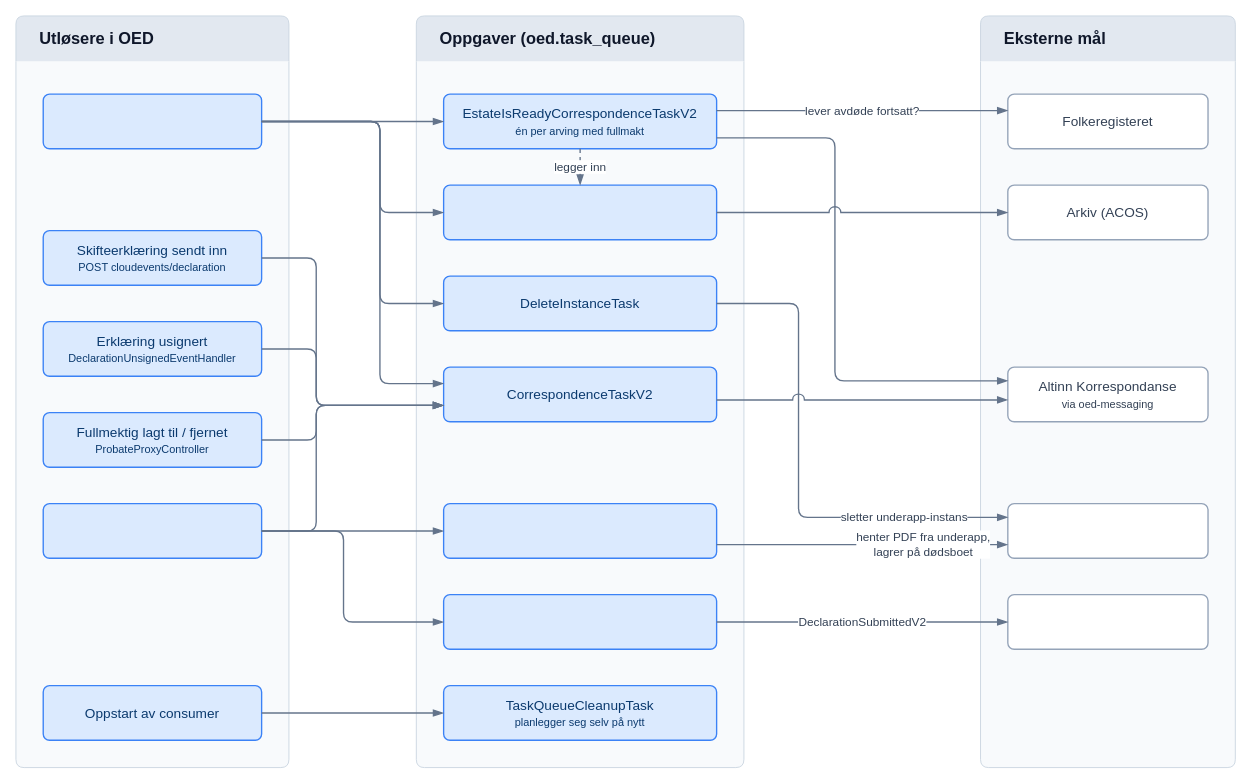
This 1251x784 diagram has some shape labels left out. Here are the shapes that lost their labels. From the top down, the centre of each, then its label:
At (x=152, y=121): "DA-sakshendelse DaCaseUpdateValidatedEventHandler".
At (x=580, y=212): "ArchiveTask".
At (x=152, y=531): "Underapp fullført AppInstanceProcessCompletedHandler".
At (x=580, y=531): "CollectPdfTask".
At (x=1107, y=531): "Altinn Storage".
At (x=580, y=622): "PublishSubmittedEventTask".
At (x=1107, y=622): "Altinn Events".
